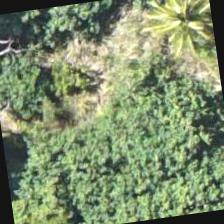Kelapa_Sawit: (134, 0, 219, 71)
